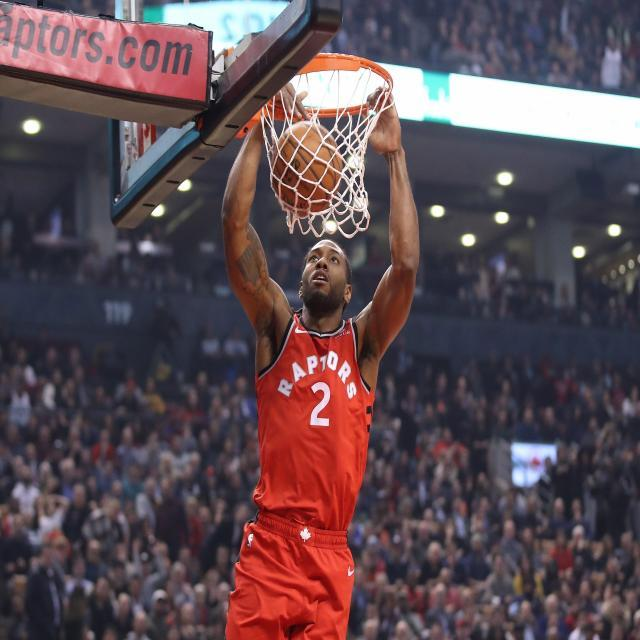rim: (276, 117, 346, 212)
